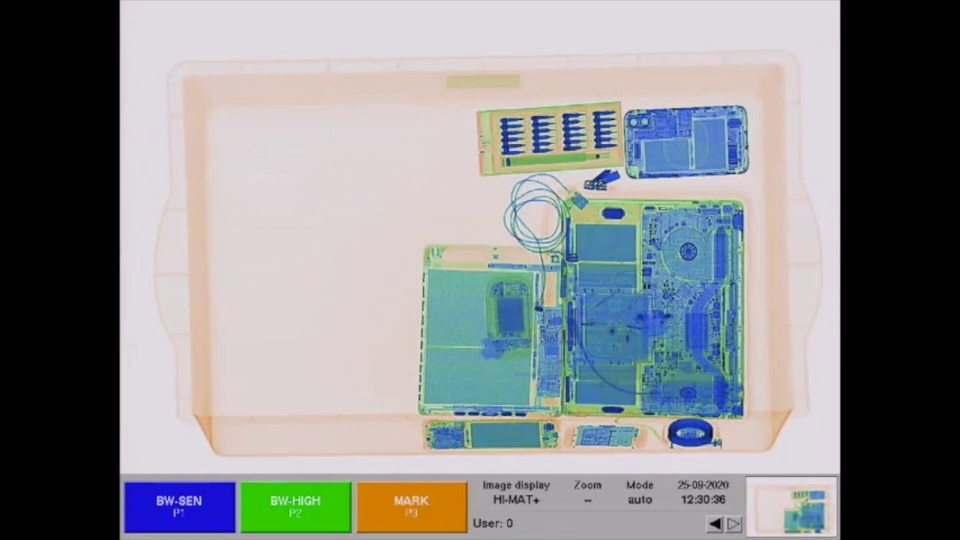tray_img: (149, 45, 827, 466)
